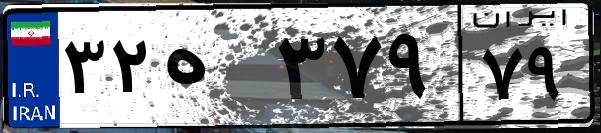2: (110, 28, 158, 98)
3: (270, 28, 330, 110), (57, 26, 110, 100)
7: (330, 28, 385, 110), (475, 38, 525, 113)
9: (385, 28, 445, 110), (525, 38, 570, 115)
ه: (158, 20, 270, 120)
